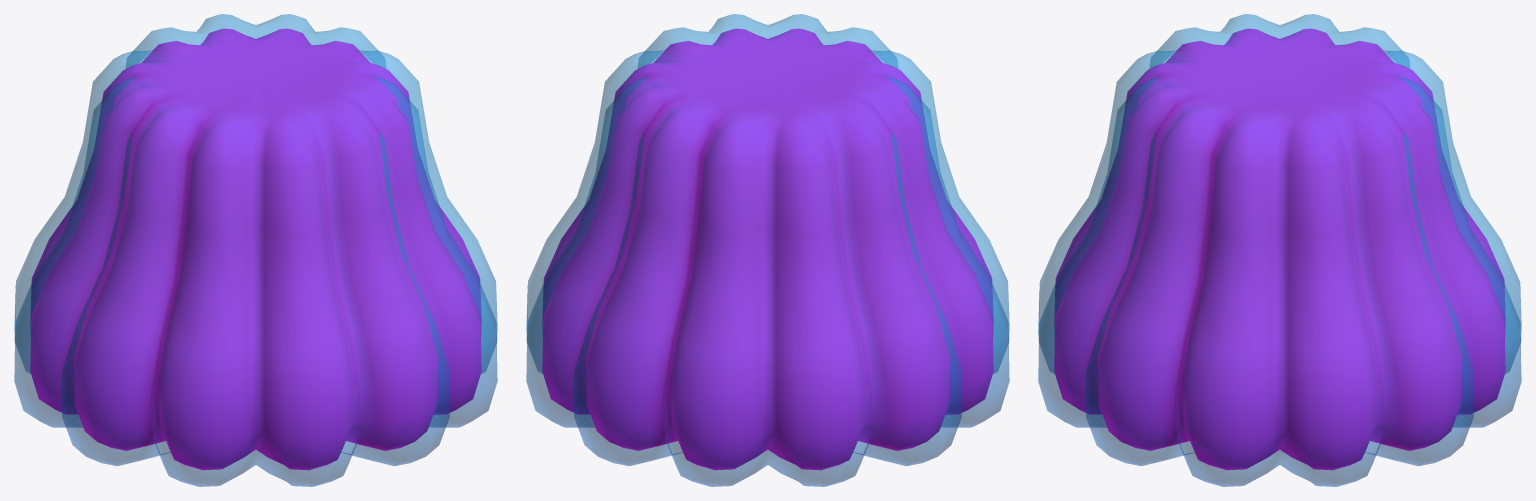
The model's file is Jelly_03.glb.
3 views of the same model, side by side, from view 1: azimuth 30°, elevation 25°; view 2: azimuth 150°, elevation 25°; view 3: azimuth 270°, elevation 25° (orthographic).
Parts seen in each view (by area): view 1: Jelly_03; view 2: Jelly_03; view 3: Jelly_03.
Part boxes in pixels (x1=…): Jelly_03: x1=14, y1=14, x2=497, y2=486; Jelly_03: x1=526, y1=14, x2=1009, y2=486; Jelly_03: x1=1038, y1=14, x2=1521, y2=486.
Bounding box in the file's own units: 16.28 × 12.45 × 16.28.
2 materials, 2 textured.
